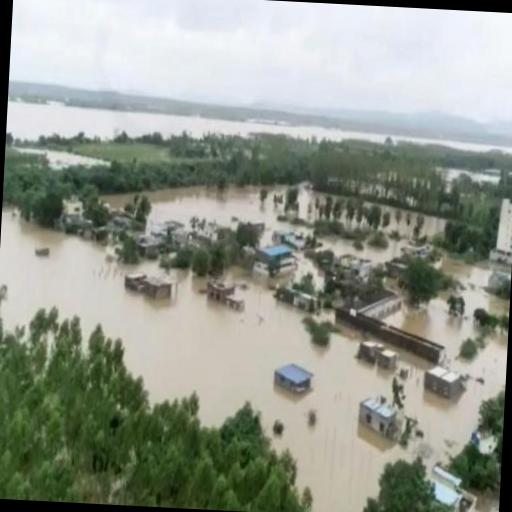flood: (0, 209, 508, 512), (6, 101, 389, 143), (147, 186, 293, 244), (321, 205, 447, 264), (101, 194, 132, 212), (477, 496, 500, 512), (62, 197, 81, 216)
house: (423, 462, 473, 512), (356, 396, 402, 439), (488, 200, 512, 271), (426, 365, 468, 403), (272, 359, 312, 394), (253, 245, 296, 277), (144, 277, 170, 301)
